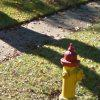Hydrant: (45, 38, 91, 100)
